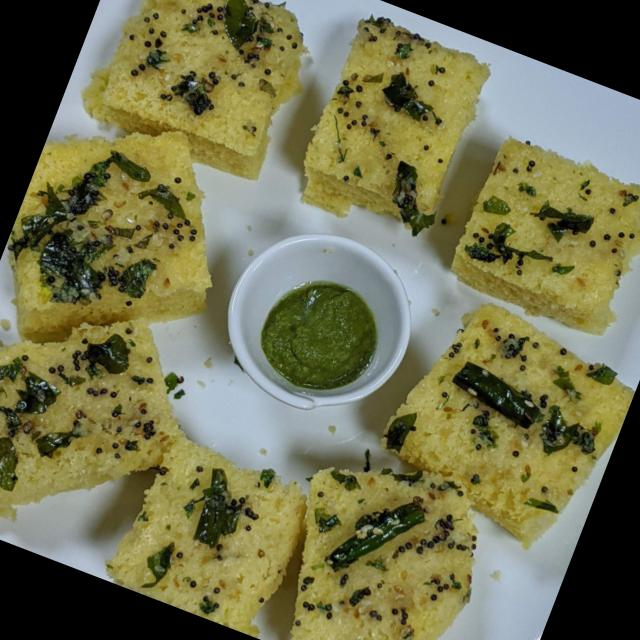dhokla: (0, 0, 328, 575), (199, 3, 640, 344), (4, 347, 466, 640), (289, 299, 610, 640)
